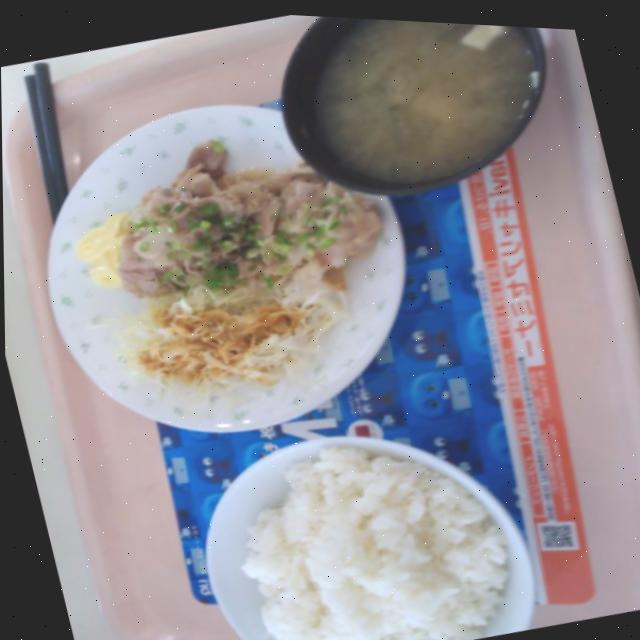米饭主食: (171, 381, 548, 640)
